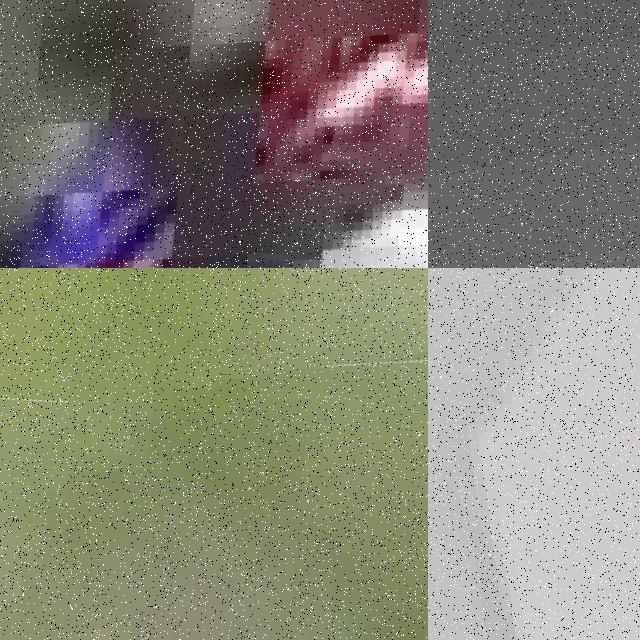drone: (0, 340, 428, 640), (0, 0, 428, 268)
